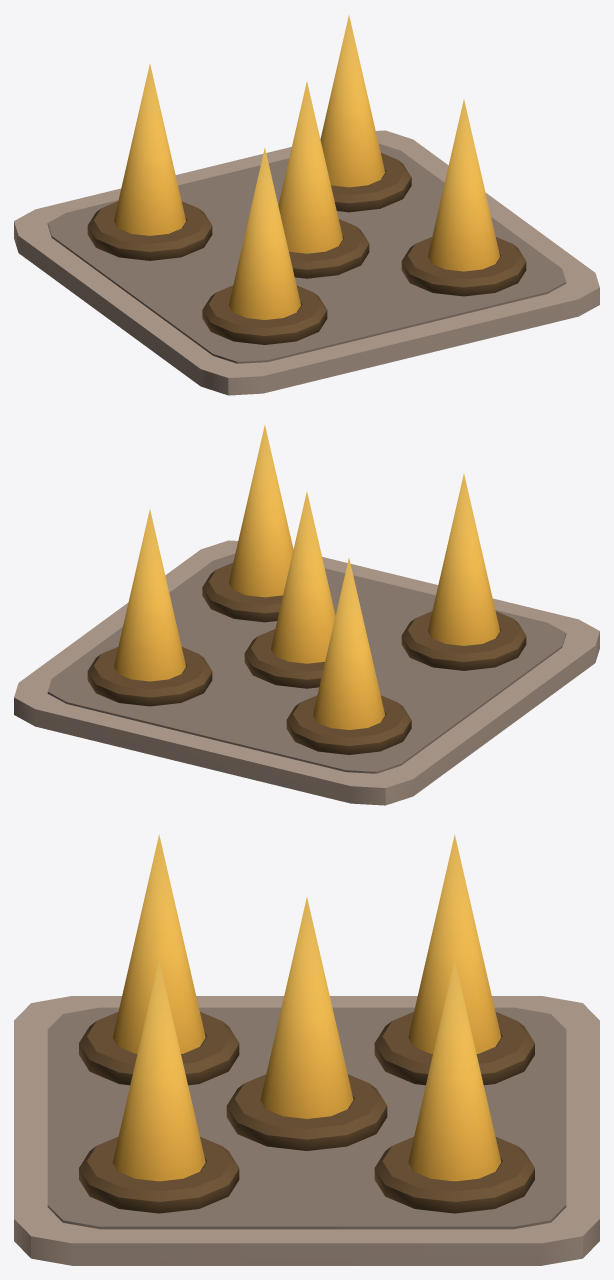
Rendered from Spike_Ground.fbx.
3 views of the same model, one above another, from view 1: azimuth 30°, elevation 25°; view 2: azimuth 150°, elevation 25°; view 3: azimuth 270°, elevation 25° (orthographic). The views are drawn at different scales.
Parts seen in each view (by area): view 1: Spike_Ground, Spikes; view 2: Spike_Ground, Spikes; view 3: Spike_Ground, Spikes.
Part boxes in pixels (x1=…): Spike_Ground: x1=14, y1=130, x2=599, y2=395; Spikes: x1=114, y1=15, x2=499, y2=319; Spike_Ground: x1=14, y1=540, x2=599, y2=805; Spikes: x1=114, y1=425, x2=499, y2=729; Spike_Ground: x1=14, y1=996, x2=599, y2=1265; Spikes: x1=112, y1=834, x2=501, y2=1181.
Size of the model in its own units: 225 by 104 by 225.
1 material, 1 textured.
